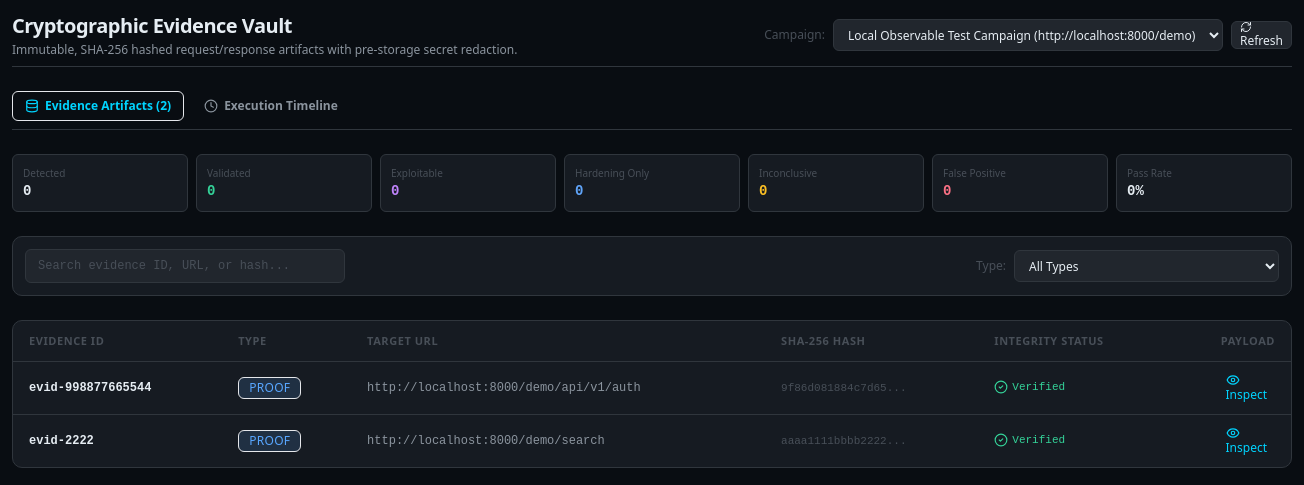
Scenario: Evidence Visibility & Execution Transparency Gate (Frontend) › filters evidence by search query matching URL, evidence ID, or hash
Check: the text "evid-998877665544" is shown, box top-left (13, 362), bottom-right (222, 414)
Check: the text "evid-2222" is shown, box top-left (13, 414), bottom-right (222, 467)
In the field with placeholder "Search evidence ID, URL, or hash...": (185, 266) top-left (25, 249), bottom-right (345, 283), type "search"
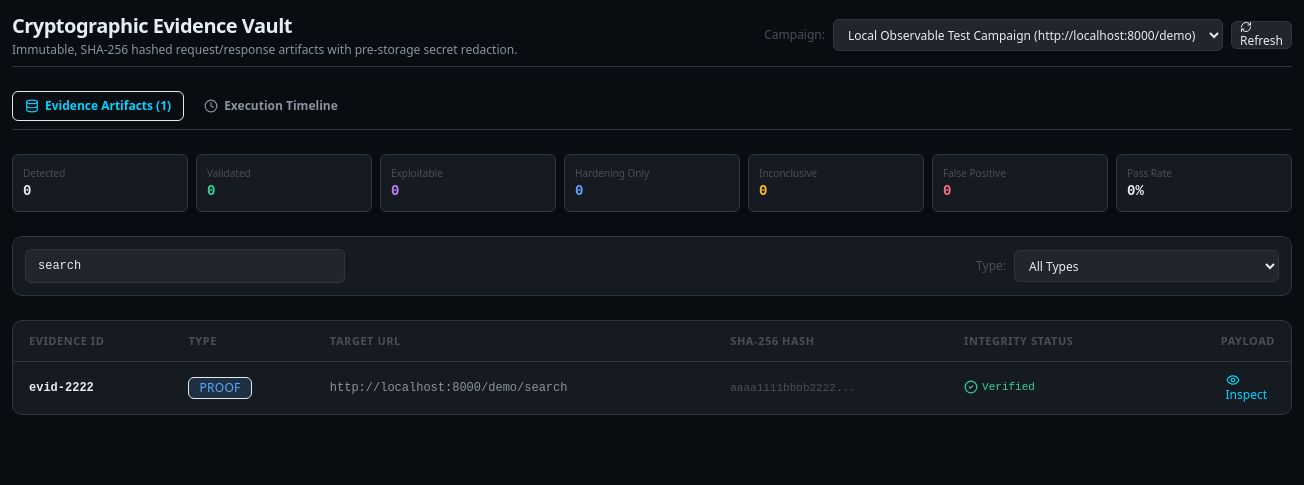
Check: the text "evid-2222" is shown, box top-left (13, 362), bottom-right (172, 414)
Check: the text "evid-998877665544" is gone
